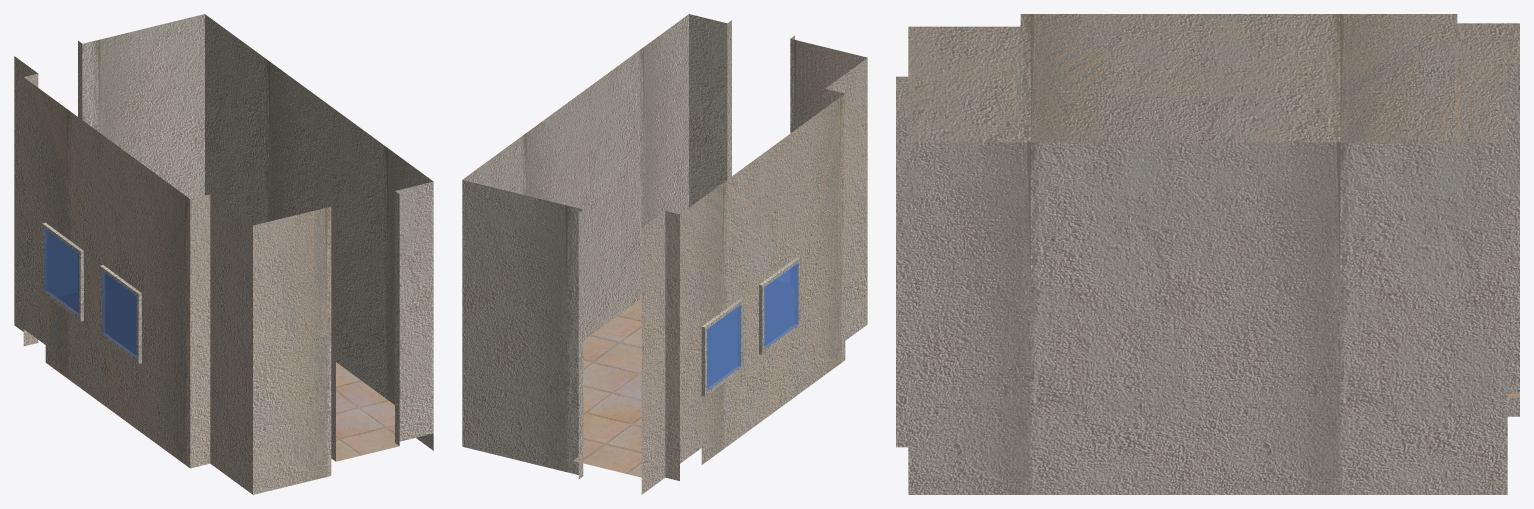
Rendered from CUA013.obj.
3 renders of one model, left to right at view 1: azimuth 30°, elevation 25°; view 2: azimuth 150°, elevation 25°; view 3: azimuth 270°, elevation 25°, orthographic. The views are drawn at different scales.
Parts seen in each view (by area): view 1: Mesh7 CUA013 Model, Mesh1 Group1 CUA013 Model, Mesh4 Group2 CUA013 Model; view 2: Mesh7 CUA013 Model, Mesh1 Group1 CUA013 Model, Mesh4 Group2 CUA013 Model; view 3: Mesh7 CUA013 Model.
Boxes of the visible parts, left/top/right/bottom form: Mesh7 CUA013 Model: left=14, top=14, right=433, bottom=494; Mesh1 Group1 CUA013 Model: left=42, top=222, right=83, bottom=321; Mesh4 Group2 CUA013 Model: left=100, top=265, right=141, bottom=363; Mesh7 CUA013 Model: left=462, top=14, right=867, bottom=494; Mesh1 Group1 CUA013 Model: left=701, top=298, right=743, bottom=396; Mesh4 Group2 CUA013 Model: left=759, top=257, right=800, bottom=354; Mesh7 CUA013 Model: left=896, top=14, right=1519, bottom=494.
Size of the model in its own units: 3.05 by 3.85 by 6.17.
5 materials, 2 textured.
